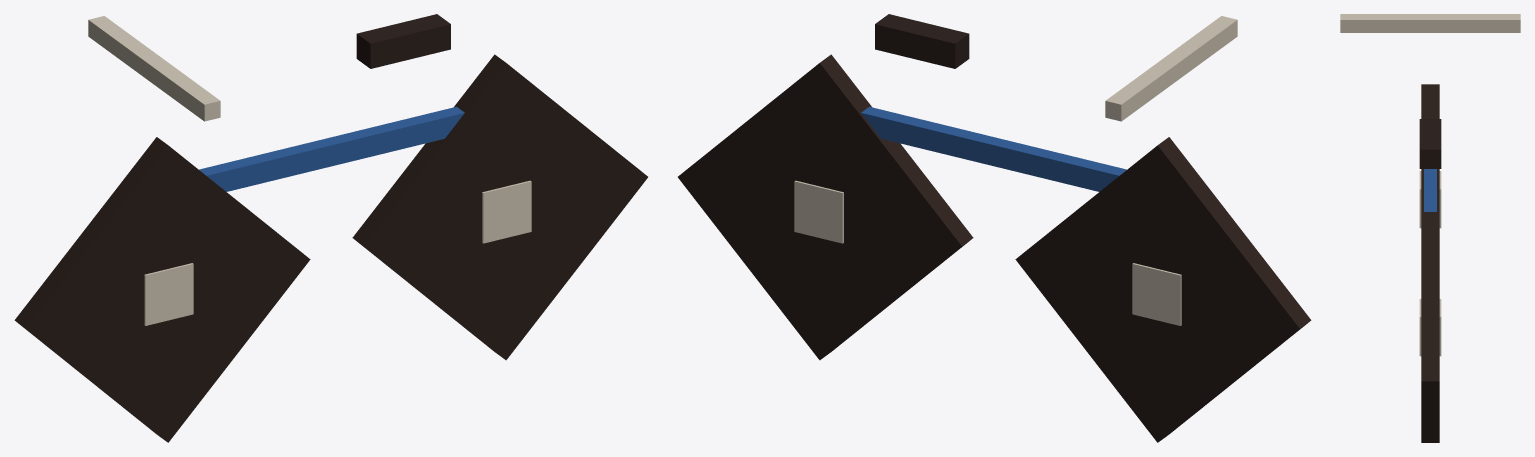
Rendered from bike_hendersons.glb.
3 views of the same model, side by side, from view 1: azimuth 30°, elevation 25°; view 2: azimuth 150°, elevation 25°; view 3: azimuth 270°, elevation 25° (orthographic). The views are drawn at different scales.
Parts seen in each view (by area): view 1: Box1, Box3, Box5, Box8, Box7, Box2, Box4; view 2: Box1, Box3, Box5, Box8, Box7, Box2, Box4; view 3: Box3, Box8, Box7, Box1, Box5, Box2, Box4.
Boxes of the visible parts, <box> form: Box1: <box>14,137,310,442</box>; Box3: <box>352,54,647,360</box>; Box5: <box>199,106,464,191</box>; Box8: <box>88,16,220,121</box>; Box7: <box>356,14,450,68</box>; Box2: <box>144,263,193,325</box>; Box4: <box>482,180,531,243</box>; Box1: <box>1015,137,1311,442</box>; Box3: <box>678,54,973,360</box>; Box5: <box>861,106,1126,191</box>; Box8: <box>1105,16,1237,121</box>; Box7: <box>875,14,969,68</box>; Box2: <box>1132,263,1181,325</box>; Box4: <box>794,180,843,243</box>; Box3: <box>1421,212,1439,442</box>; Box8: <box>1340,14,1520,32</box>; Box7: <box>1419,119,1441,168</box>; Box1: <box>1421,84,1439,211</box>; Box5: <box>1424,169,1436,211</box>; Box2: <box>1419,171,1441,228</box>; Box4: <box>1419,299,1441,356</box>.
Size of the model in its own units: 1.55 by 0.9036 by 0.5.
